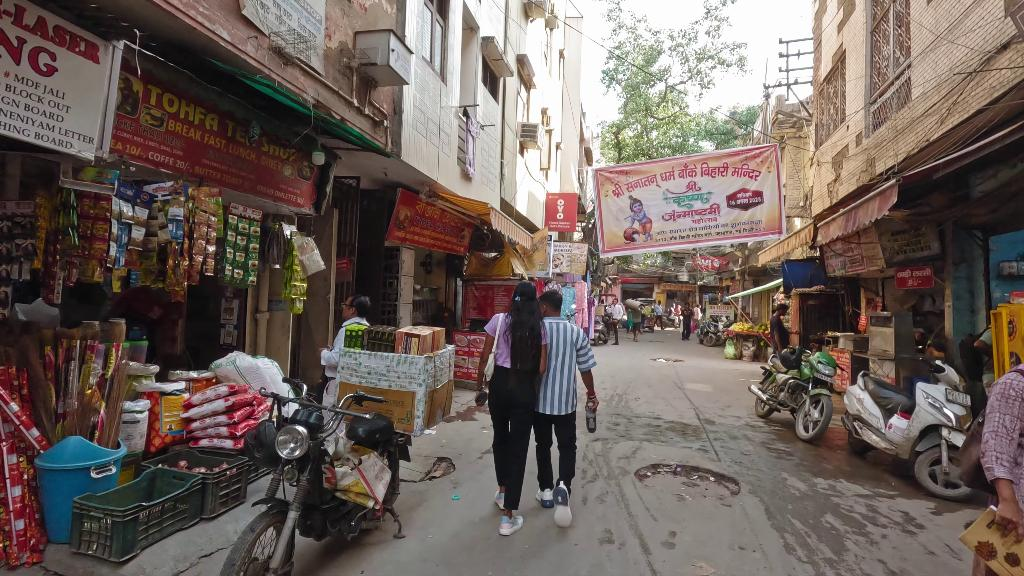garbage: (723, 335, 739, 362)
